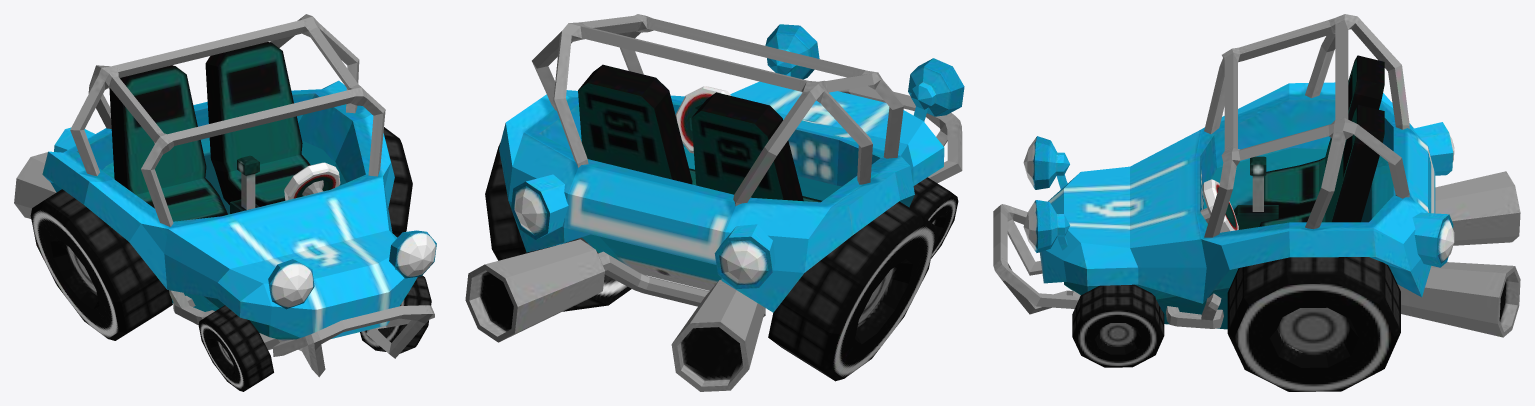
File: car_buggy.glb
3 views of the same model, side by side, from view 1: azimuth 30°, elevation 25°; view 2: azimuth 150°, elevation 25°; view 3: azimuth 270°, elevation 25° (orthographic). The views are drawn at different scales.
Visible parts, largest first — view 1: DuneBuggy; view 2: DuneBuggy; view 3: DuneBuggy.
Boxes of the visible parts, left/top/right/bottom form: DuneBuggy: left=14, top=14, right=436, bottom=391; DuneBuggy: left=465, top=14, right=964, bottom=391; DuneBuggy: left=993, top=14, right=1520, bottom=391.
Bounding box in the file's own units: 41.25 × 29.28 × 53.22.
1 material, 1 textured.
